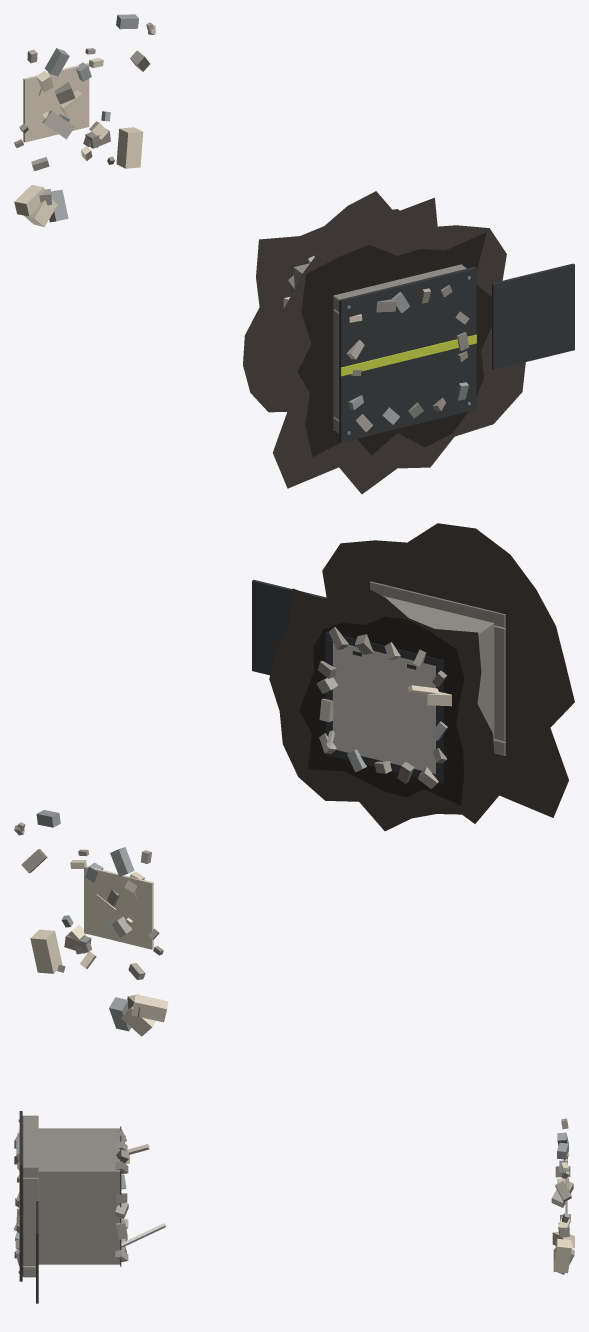
The model's file is prop_breach_ceiling_p100_d550.glb.
The picture shows the model from 3 angles, top to bottom: view 1: azimuth 30°, elevation 25°; view 2: azimuth 150°, elevation 25°; view 3: azimuth 270°, elevation 25°; orthographic projection. The views are drawn at different scales.
Parts seen in each view (by area): view 1: Scorch, BlownFrame, Seal, Curb; view 2: Scorch, BlownFrame, Seal, Curb; view 3: BlownFrame, Curb, Seal.
Part boxes in pixels (box(x1,y1,x2,y2)): Scorch: box(243, 191, 525, 494); BlownFrame: box(14, 14, 574, 431); Seal: box(291, 261, 476, 442); Curb: box(333, 264, 466, 433); Scorch: box(269, 523, 574, 831); BlownFrame: box(14, 579, 494, 1036); Seal: box(325, 631, 443, 783); Curb: box(370, 581, 505, 755); BlownFrame: box(14, 1118, 574, 1303); Curb: box(22, 1115, 38, 1277); Seal: box(18, 1111, 121, 1281).
Size of what is drawn, in the model's own units: 3.57 by 3.12 by 6.89.
